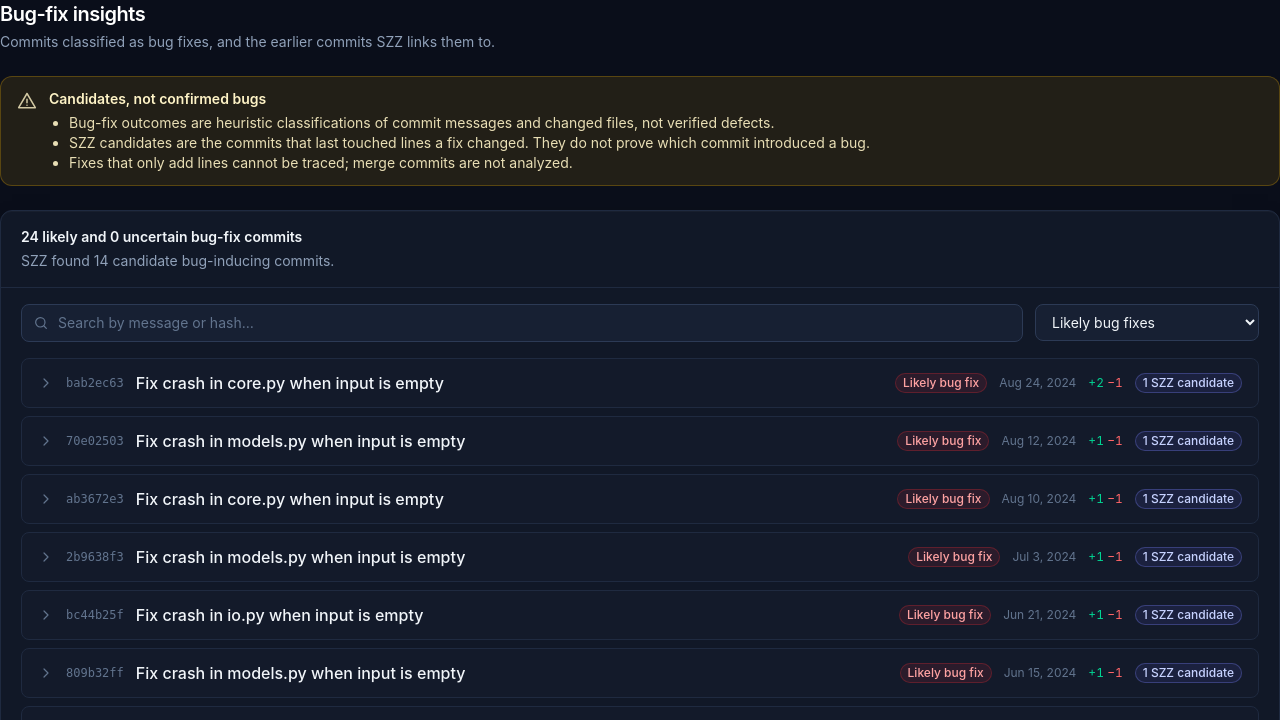
Test: BugFixes › filters by search text
In the search field named "Search commits": (522, 323) [21,304,1023,342], type "zzz-nothing"
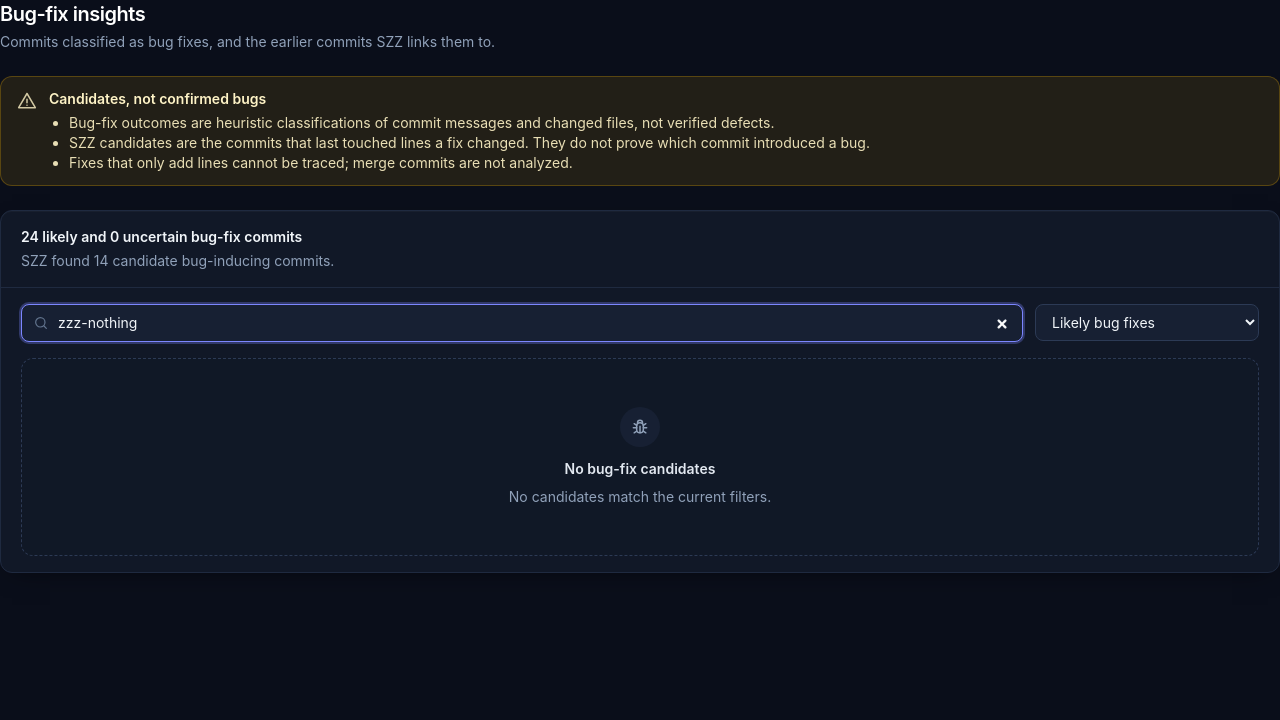
Result: the text "No candidates match the current filters." is shown at [509,488,771,505]
